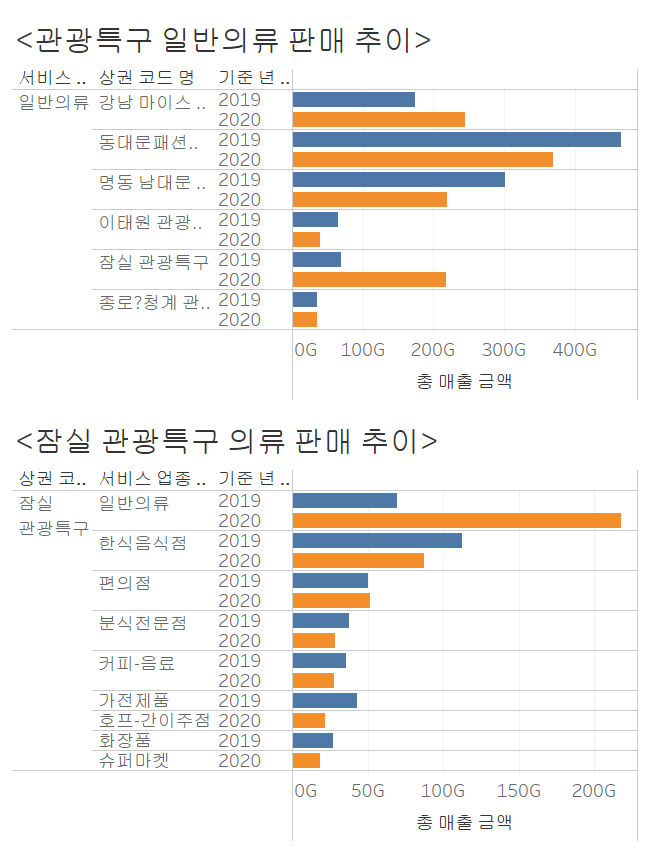

This screenshot's page, from the dashboard's own definition file:
{"tool":"tableau","page":{"name":"대시보드 1","canvas":[650,860],"ordinal":0},"visuals":[{"type":"worksheet","title":"2019_1","mark":"Automatic","rows":["주중_매출_금액","주말_매출_금액","Calculation_1875467832701407235"],"cols":["상권_구분_코드","상권_구분_코드_명","기준_분기_코드"],"box":[8,8,634,600]},{"type":"worksheet","title":"2019_2","mark":"Automatic","rows":["상권_구분_코드"],"cols":["Calculation_1875467832707293189"],"box":[8,608,634,244]}]}

Visuals, with their boxes in screenshot pixels (x1, y1, x2, y2), scaled from the page's 650x860 canvas onto the 650x860 screenshot:
"2019_1" worksheet: (8,8,642,608)
"2019_2" worksheet: (8,608,642,852)
